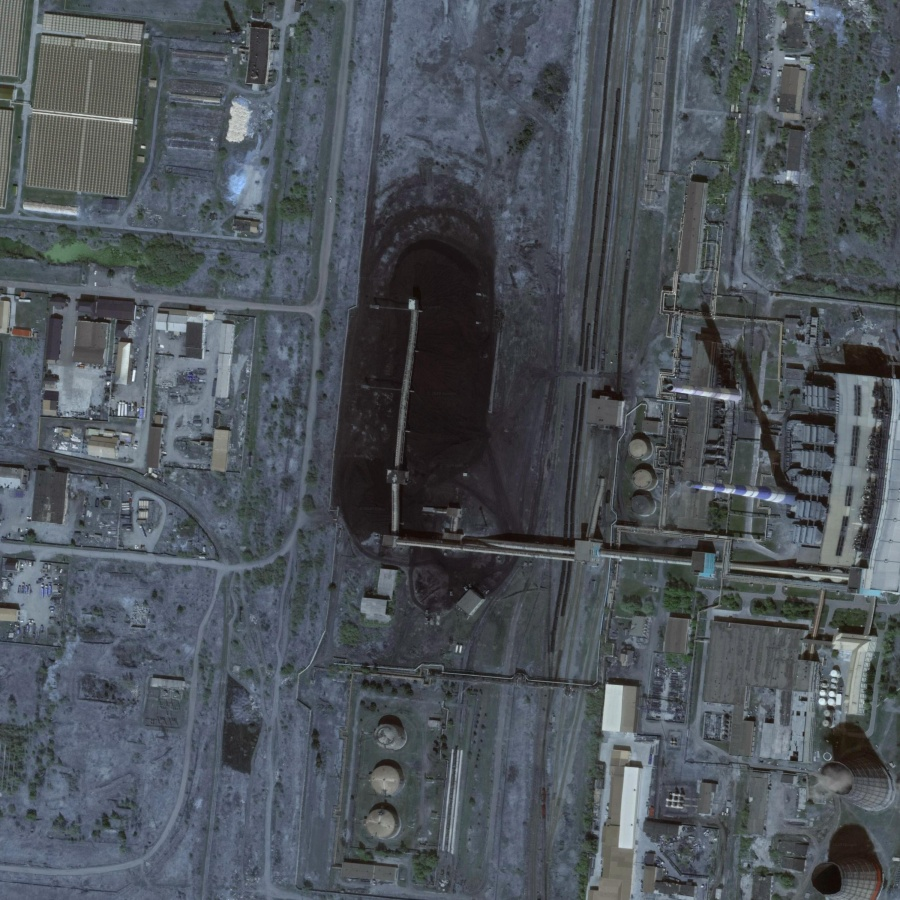PowerPlant: (323, 204, 641, 613), (647, 291, 836, 553), (325, 657, 473, 899)
